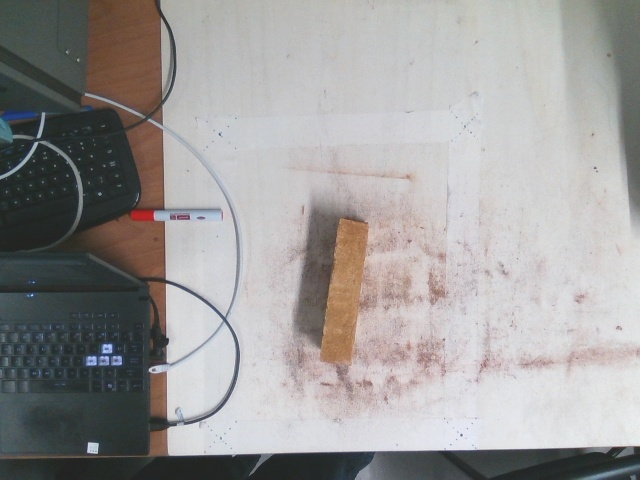brick-side: (319, 222, 369, 365)
